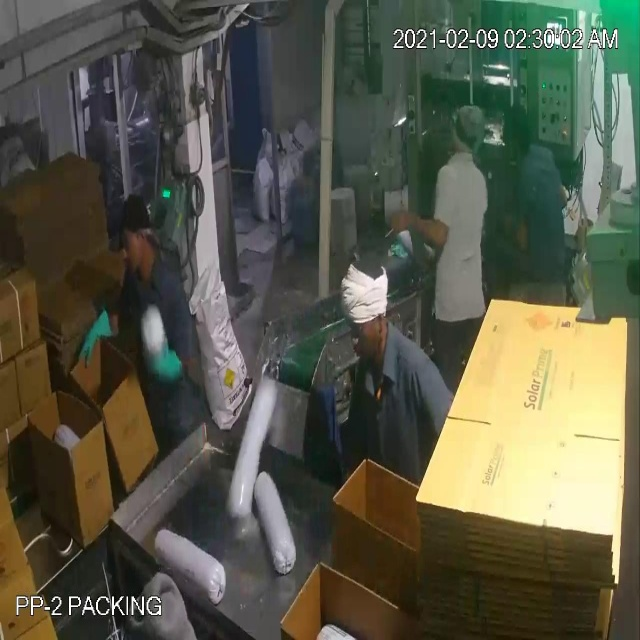Guantes: (135, 317, 186, 398), (72, 305, 120, 371)
Sin_guantes: (377, 193, 461, 262)
